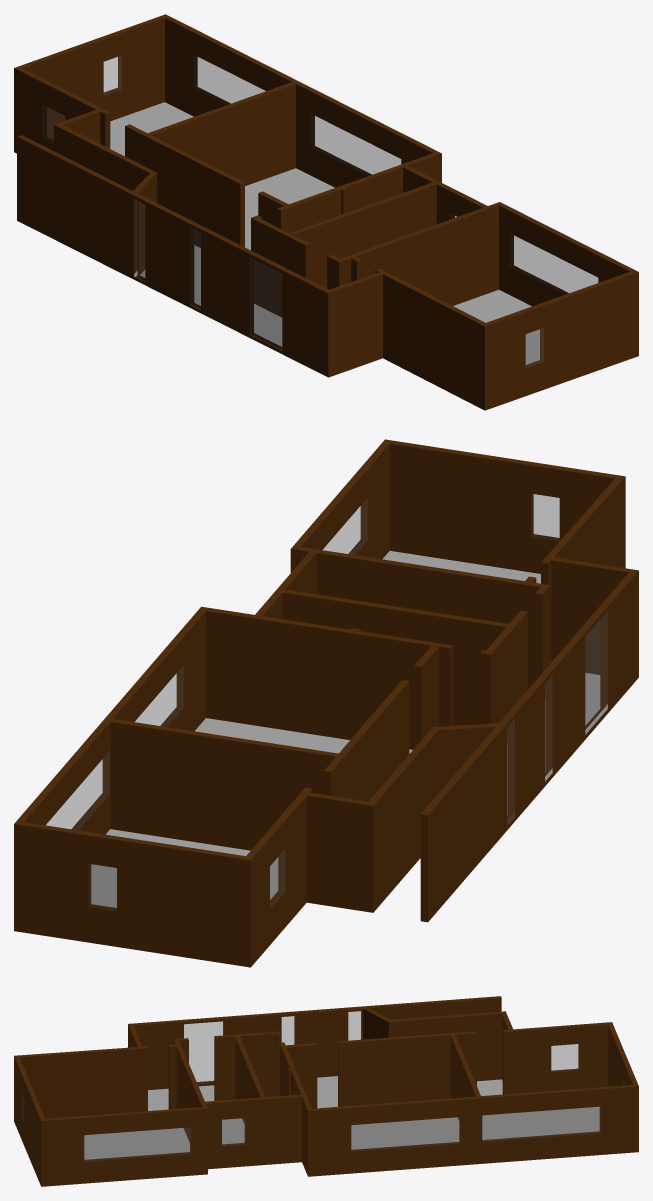
The picture shows the model from 3 angles, top to bottom: view 1: azimuth 30°, elevation 25°; view 2: azimuth 150°, elevation 25°; view 3: azimuth 270°, elevation 25°; orthographic projection. The views are drawn at different scales.
Parts seen in each view (by area): view 1: Plane.033, Plane.035; view 2: Plane.033, Plane.035; view 3: Plane.033, Plane.035.
Part boxes in pixels (box(x1,y1,x2,y2)): Plane.033: box(14, 14, 638, 410); Plane.035: box(110, 102, 539, 364); Plane.033: box(14, 439, 638, 967); Plane.035: box(91, 551, 607, 907); Plane.033: box(14, 996, 638, 1186); Plane.035: box(84, 1076, 599, 1159).
Size of the model in its own units: 12.24 by 3 by 25.85.
